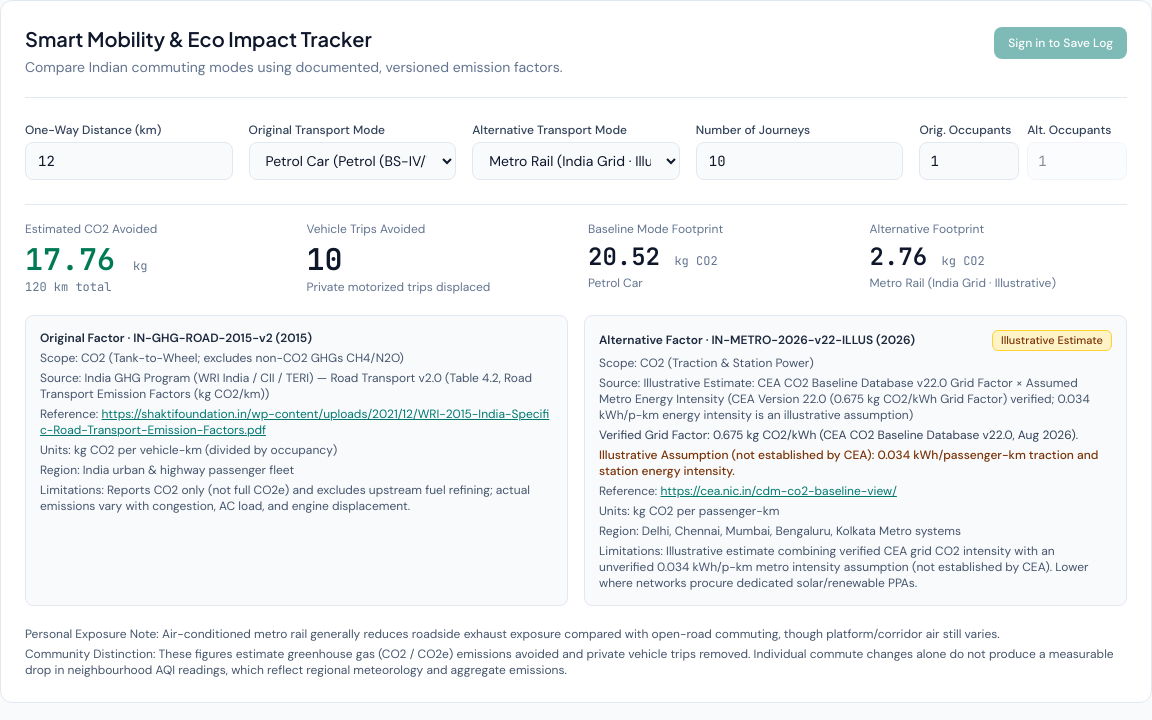
Scenario: EcoMobilityTracker interactions › clamps numeric inputs and toggles occupancy support by transport mode
Clear the number field labelled "One-Way Distance (km)": (129, 161) [25,142,233,180]
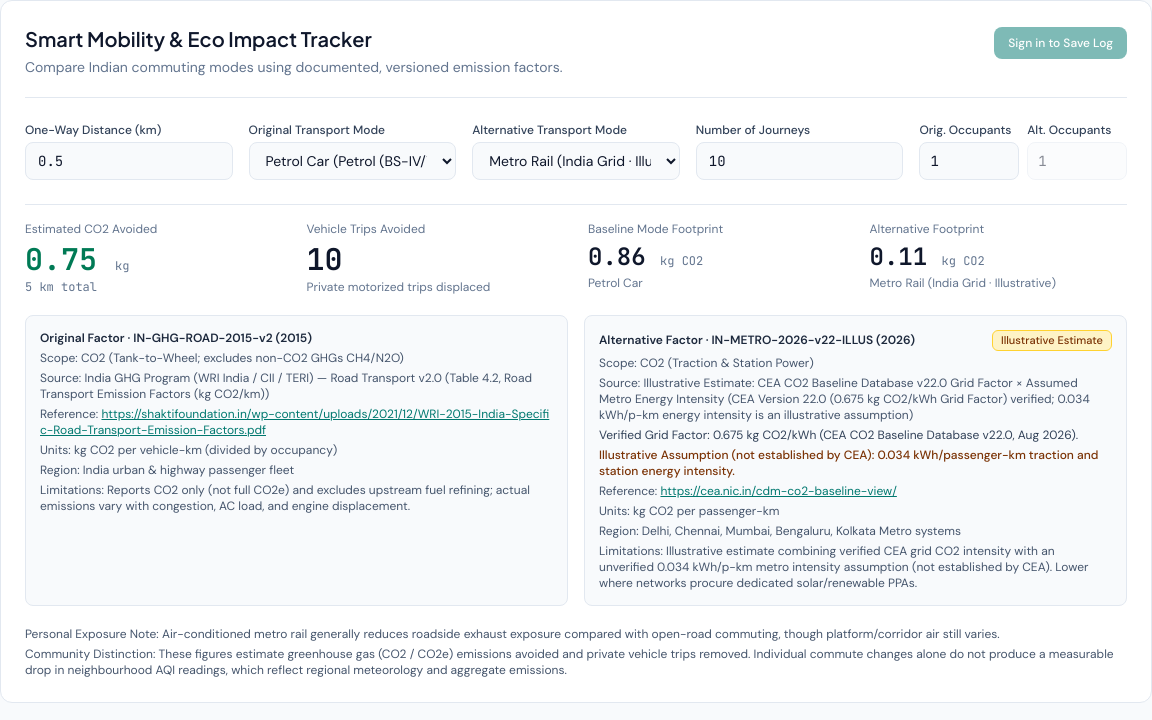
Replace the text in the number field labelled "Number of Journeys" with "500": (800, 161) [696,142,903,180]
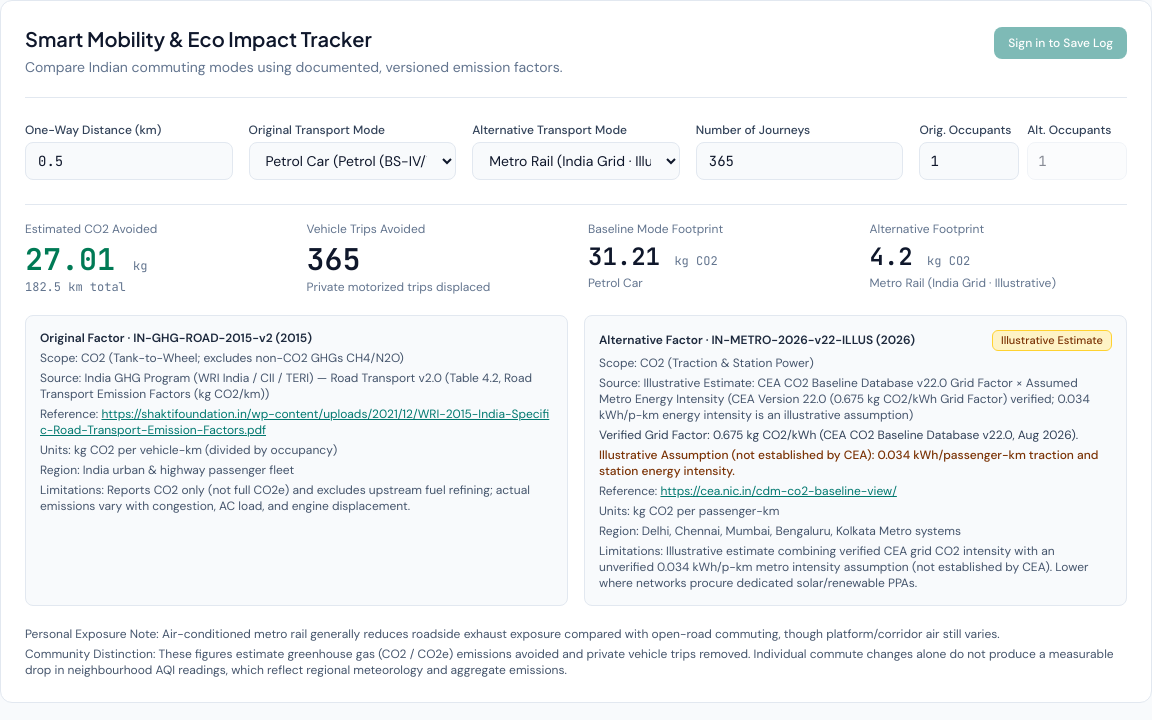
Result: the number field labelled "One-Way Distance (km)" holds "0.5" at [25,142,233,180]
Result: the number field labelled "Number of Journeys" holds "365" at [696,142,903,180]
Select "City Bus (Diesel) (Diesel (Standard Urban Public Transit))" in the dropdown labelled "Original Transport Mode": (352, 161) [249,142,456,180]
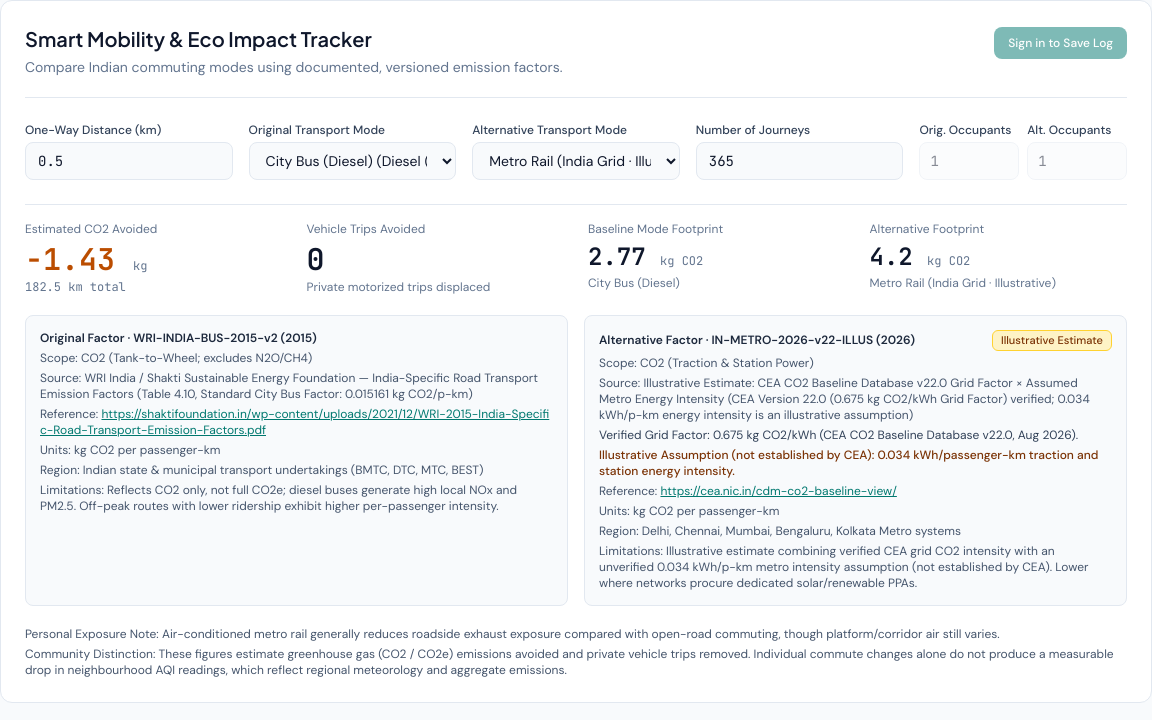
Expected: the number field labelled "Alt. Occupants" is disabled, [1027,142,1127,180]
Result: the number field labelled "Orig. Occupants" is disabled at [919,142,1019,180]
Select "Petrol Car (Petrol (BS-IV/VI avg fleet))" in the dropdown labelled "Original Transport Mode": (352, 161) [249,142,456,180]
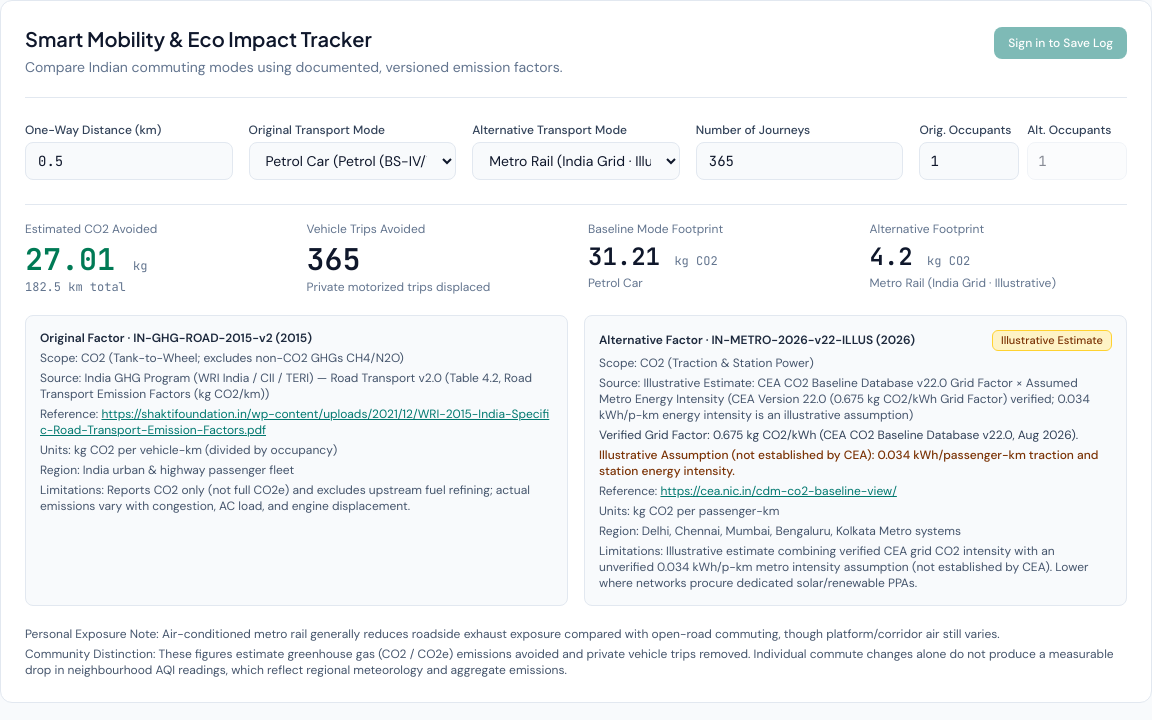
Result: the number field labelled "Orig. Occupants" is enabled at [919,142,1019,180]
